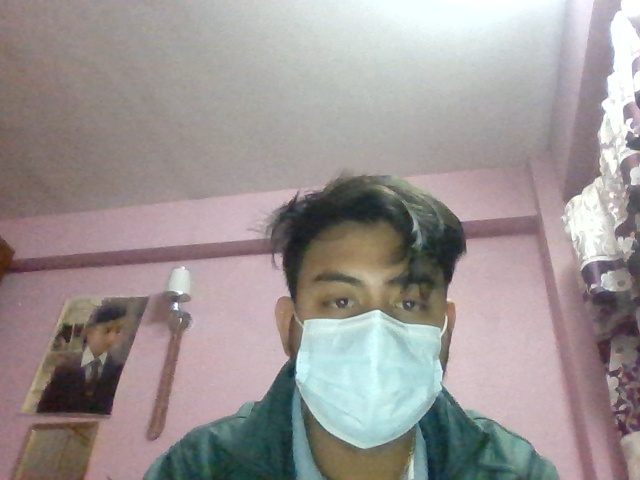mask: (275, 302, 471, 451)
